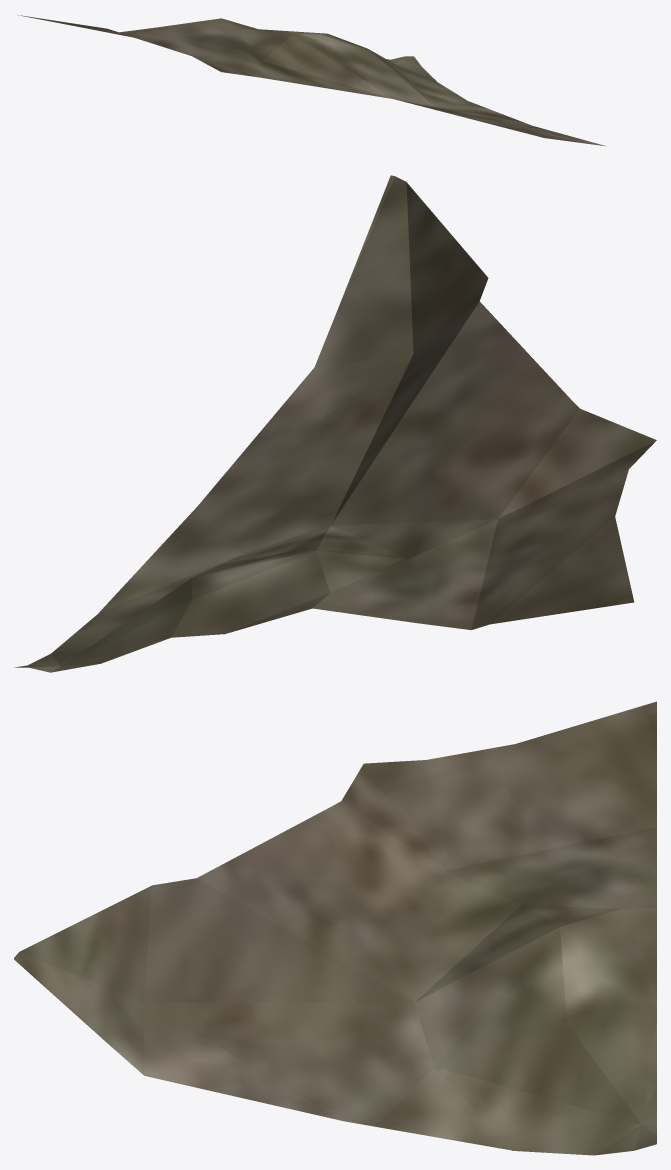
The picture shows the model from 3 angles, top to bottom: view 1: azimuth 30°, elevation 25°; view 2: azimuth 150°, elevation 25°; view 3: azimuth 270°, elevation 25°; orthographic projection. The views are drawn at different scales.
Bounding box in the file's own units: 0.9853 × 0.3485 × 1.04.
1 material, 1 textured.
